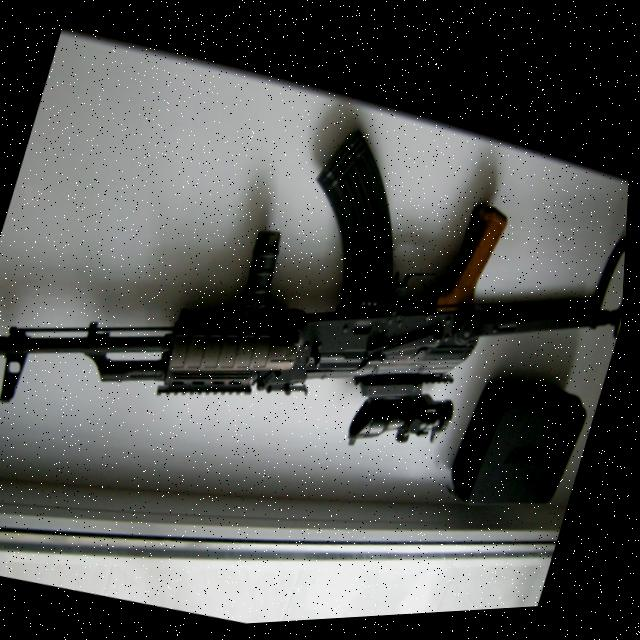firearm: (0, 39, 637, 549)
